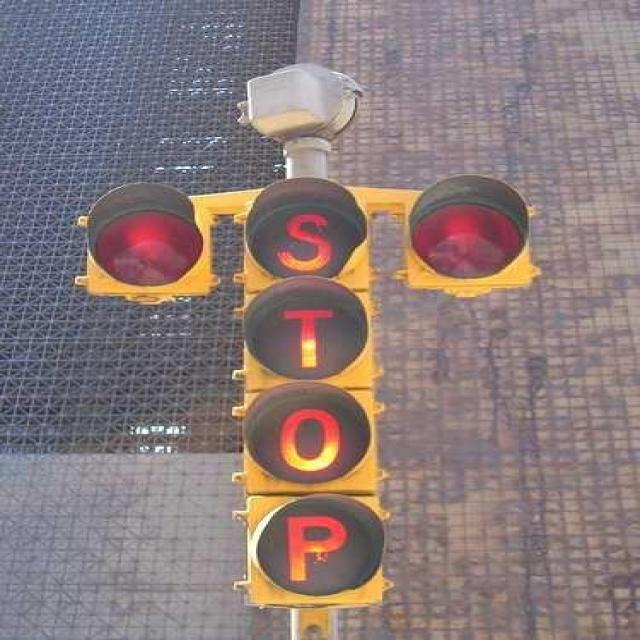Traffic Light -Red-: (236, 173, 376, 491)
